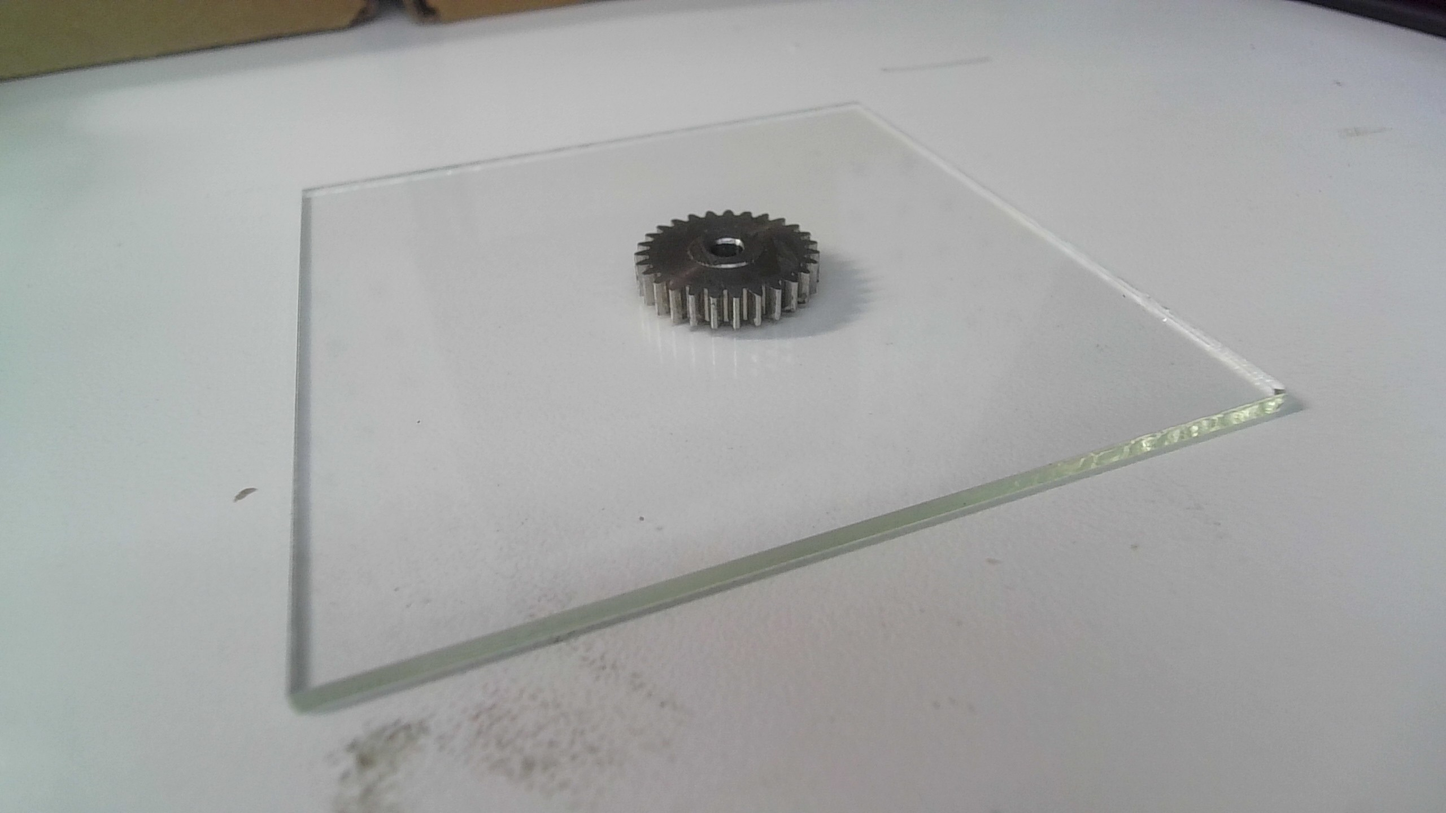gear: (631, 208, 824, 333)
